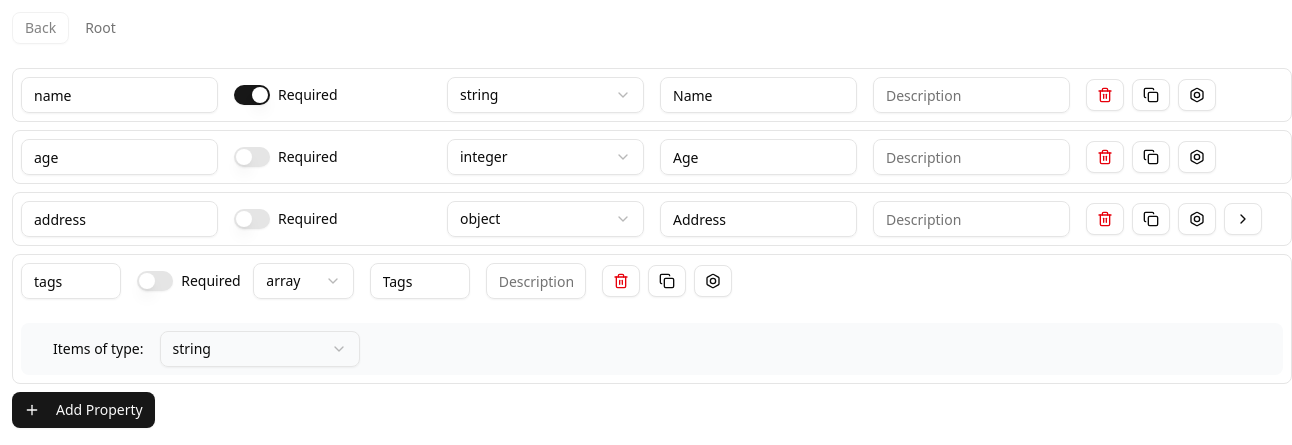
Test: SchemaBuilder › Navigation › navigates to nested object property
Click the button named "navigate". click: (1243, 219)
box: [1224, 203, 1262, 235]
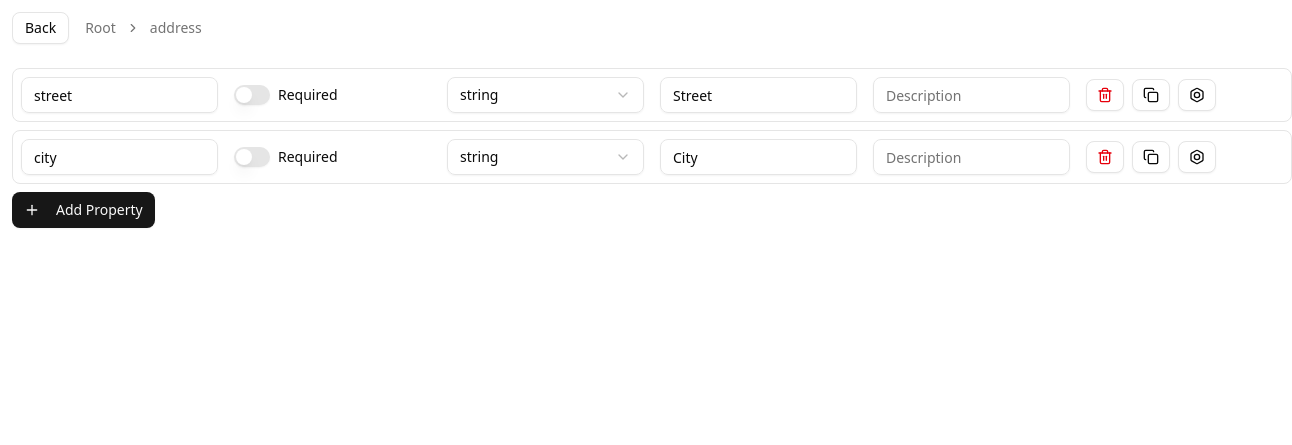
Expected: the link "Root" is shown, [85, 18, 116, 38]
Expected: the link "address" is shown, [150, 18, 202, 38]
Expected: the field showing "street" is shown, [21, 77, 218, 113]
